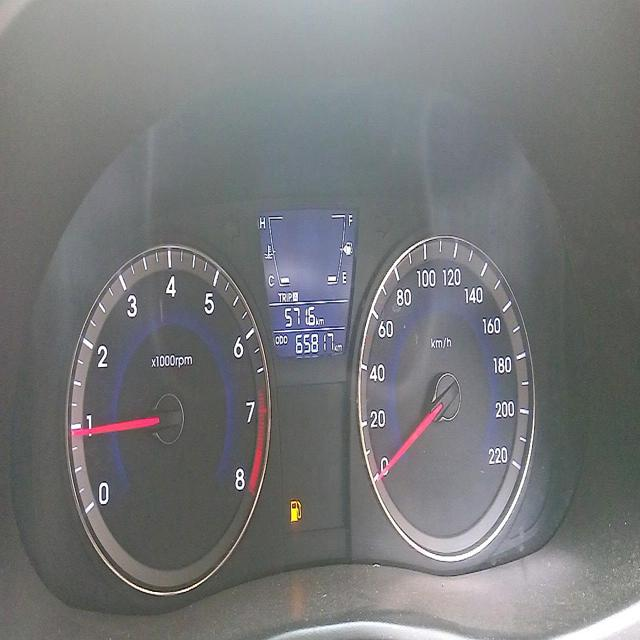odometer: (294, 328, 334, 355)
